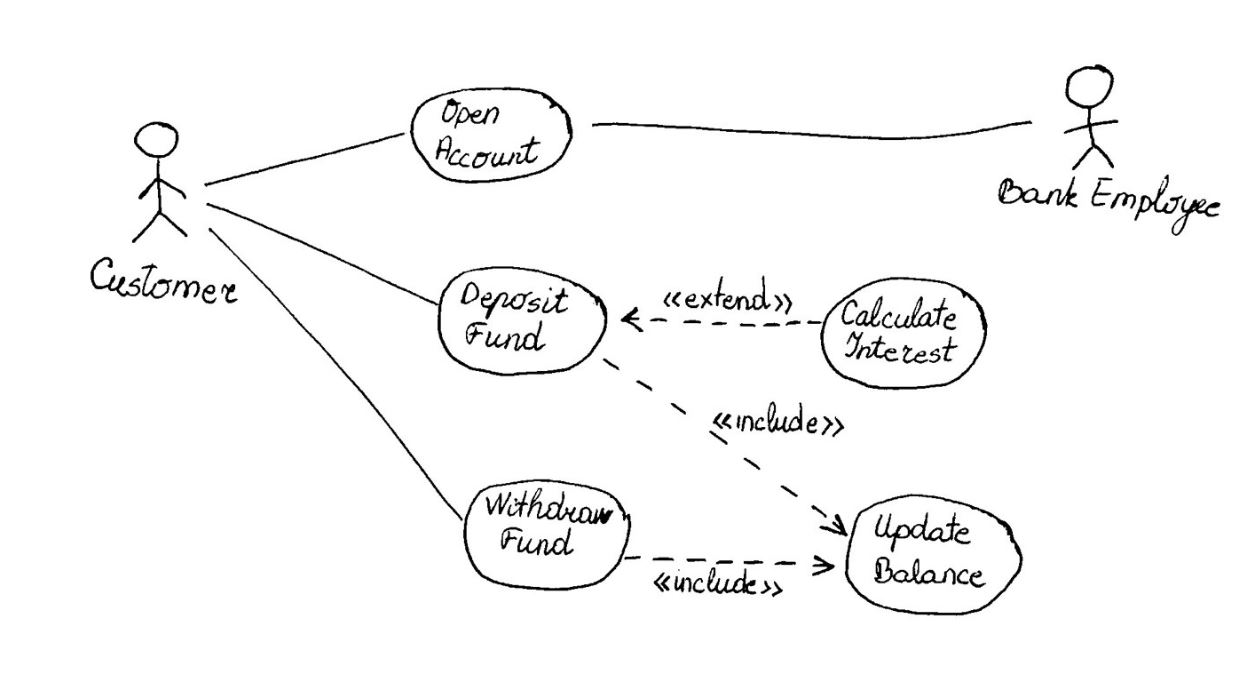actor: (129, 122, 194, 246), (1060, 61, 1120, 175)
association: (212, 228, 460, 517), (605, 356, 848, 539), (210, 199, 437, 306), (591, 101, 1043, 148), (206, 129, 407, 188), (624, 543, 836, 575), (618, 302, 820, 333)
text: (997, 170, 1225, 236), (868, 509, 988, 592), (483, 487, 613, 563), (455, 281, 574, 359), (90, 257, 244, 310), (433, 99, 546, 171), (846, 296, 965, 364), (660, 276, 806, 316), (706, 404, 850, 438), (648, 567, 788, 600)
use_case: (844, 493, 1023, 617), (822, 277, 989, 393), (435, 265, 608, 376), (464, 477, 629, 591), (410, 86, 574, 183)
